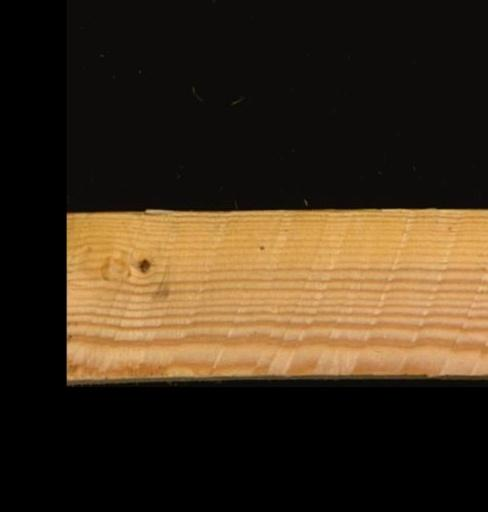dry_knot: (129, 250, 157, 277)
